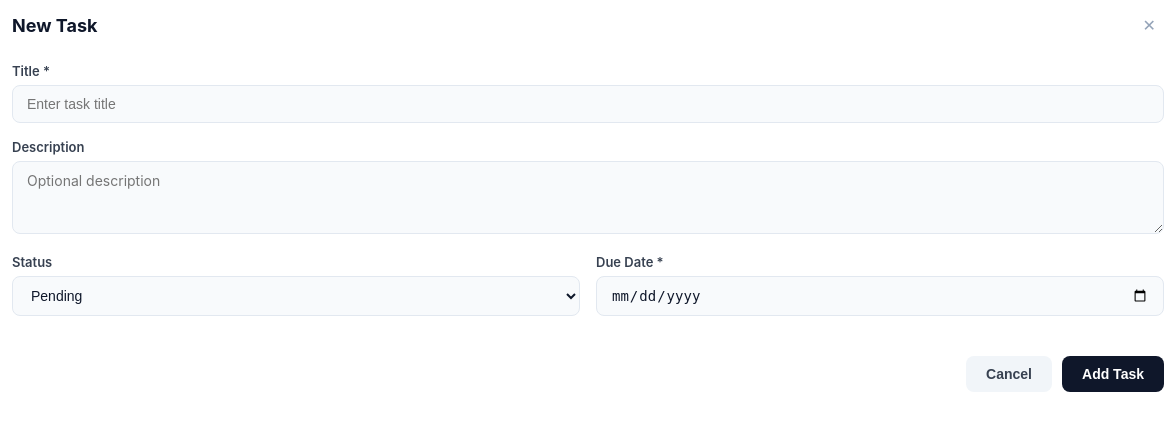
Test: TaskForm Component › clears specific field errors on user keystroke input changes
This screenshot has width=1176, height=429.
Click the button "Add Task".
click(1113, 374)  # box [1062,356,1164,392]
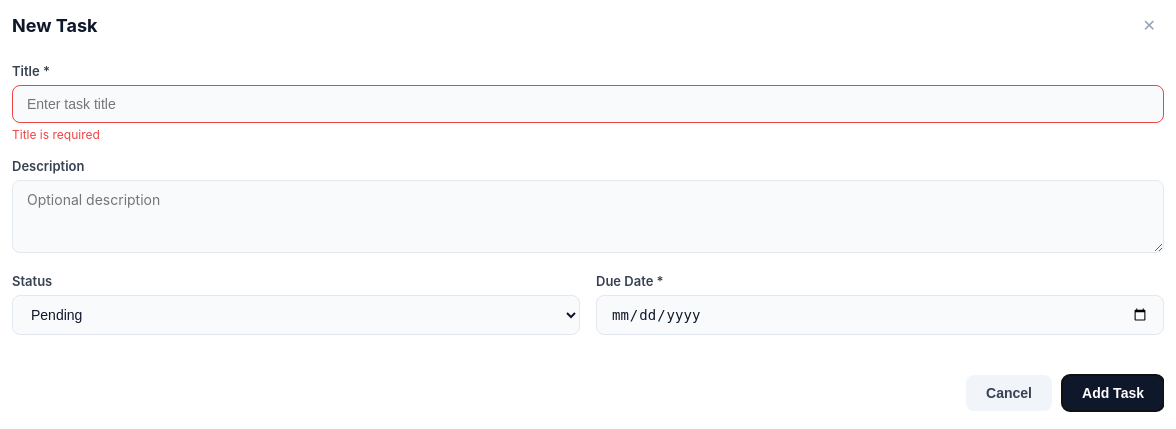
Now the text "Title is required" is shown, box [12,127,100,142]
Type "A" into the field with placeholder "Enter task title".
click(588, 104); type("A")  # box [12,85,1164,123]
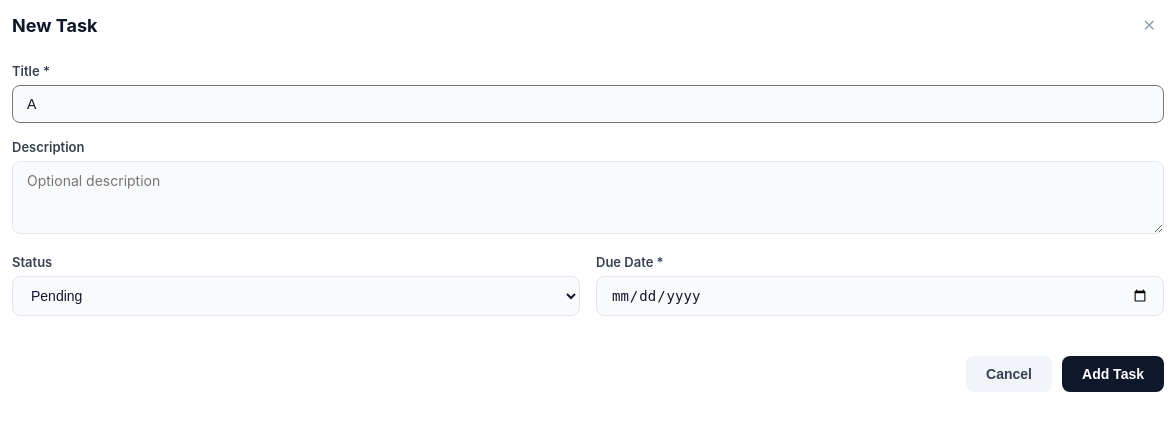
Now the text "Title is required" is gone
